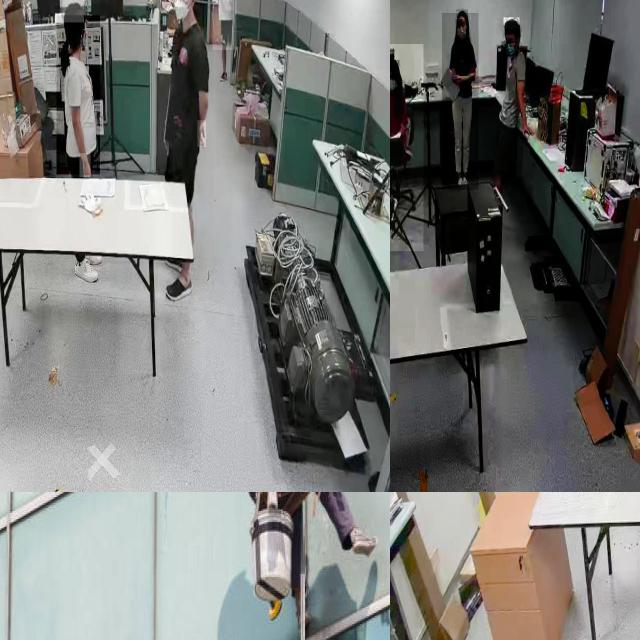face_mask: (173, 0, 193, 29), (455, 19, 469, 49), (502, 42, 518, 58), (390, 73, 397, 95)
hand_noglove: (79, 153, 91, 178), (520, 121, 536, 138), (198, 120, 206, 148), (452, 72, 463, 84), (468, 62, 476, 74)
head_nohelmet: (62, 0, 84, 23), (504, 17, 520, 30), (390, 59, 400, 72), (456, 9, 468, 19)
person: (158, 0, 214, 205), (493, 20, 537, 193), (390, 44, 424, 252), (56, 16, 100, 176), (442, 13, 479, 191), (212, 0, 237, 51)
shoes: (162, 269, 192, 303), (72, 256, 98, 286)
